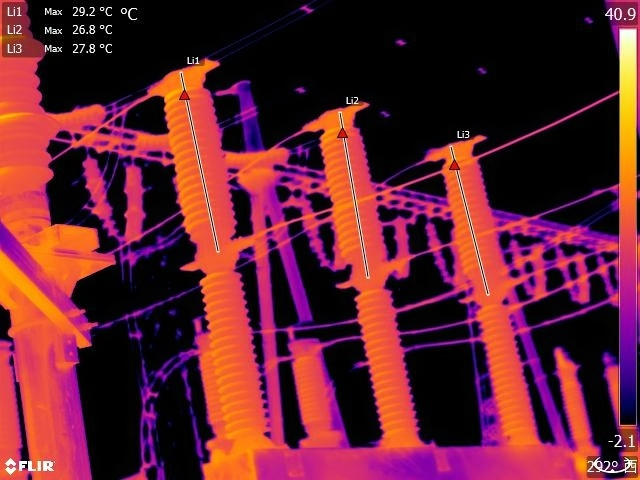circuit breaker: (158, 55, 277, 446), (314, 94, 424, 440), (441, 125, 538, 446)
current transformer: (286, 319, 340, 440), (187, 310, 221, 429)
insulator: (80, 157, 118, 245), (119, 165, 152, 248), (301, 201, 332, 269), (424, 220, 447, 282), (510, 240, 530, 296), (393, 219, 413, 275), (574, 246, 591, 306), (533, 246, 549, 301), (556, 240, 570, 298), (596, 253, 612, 295)
post insulator: (1, 1, 67, 231), (557, 358, 596, 449), (608, 363, 638, 447)
